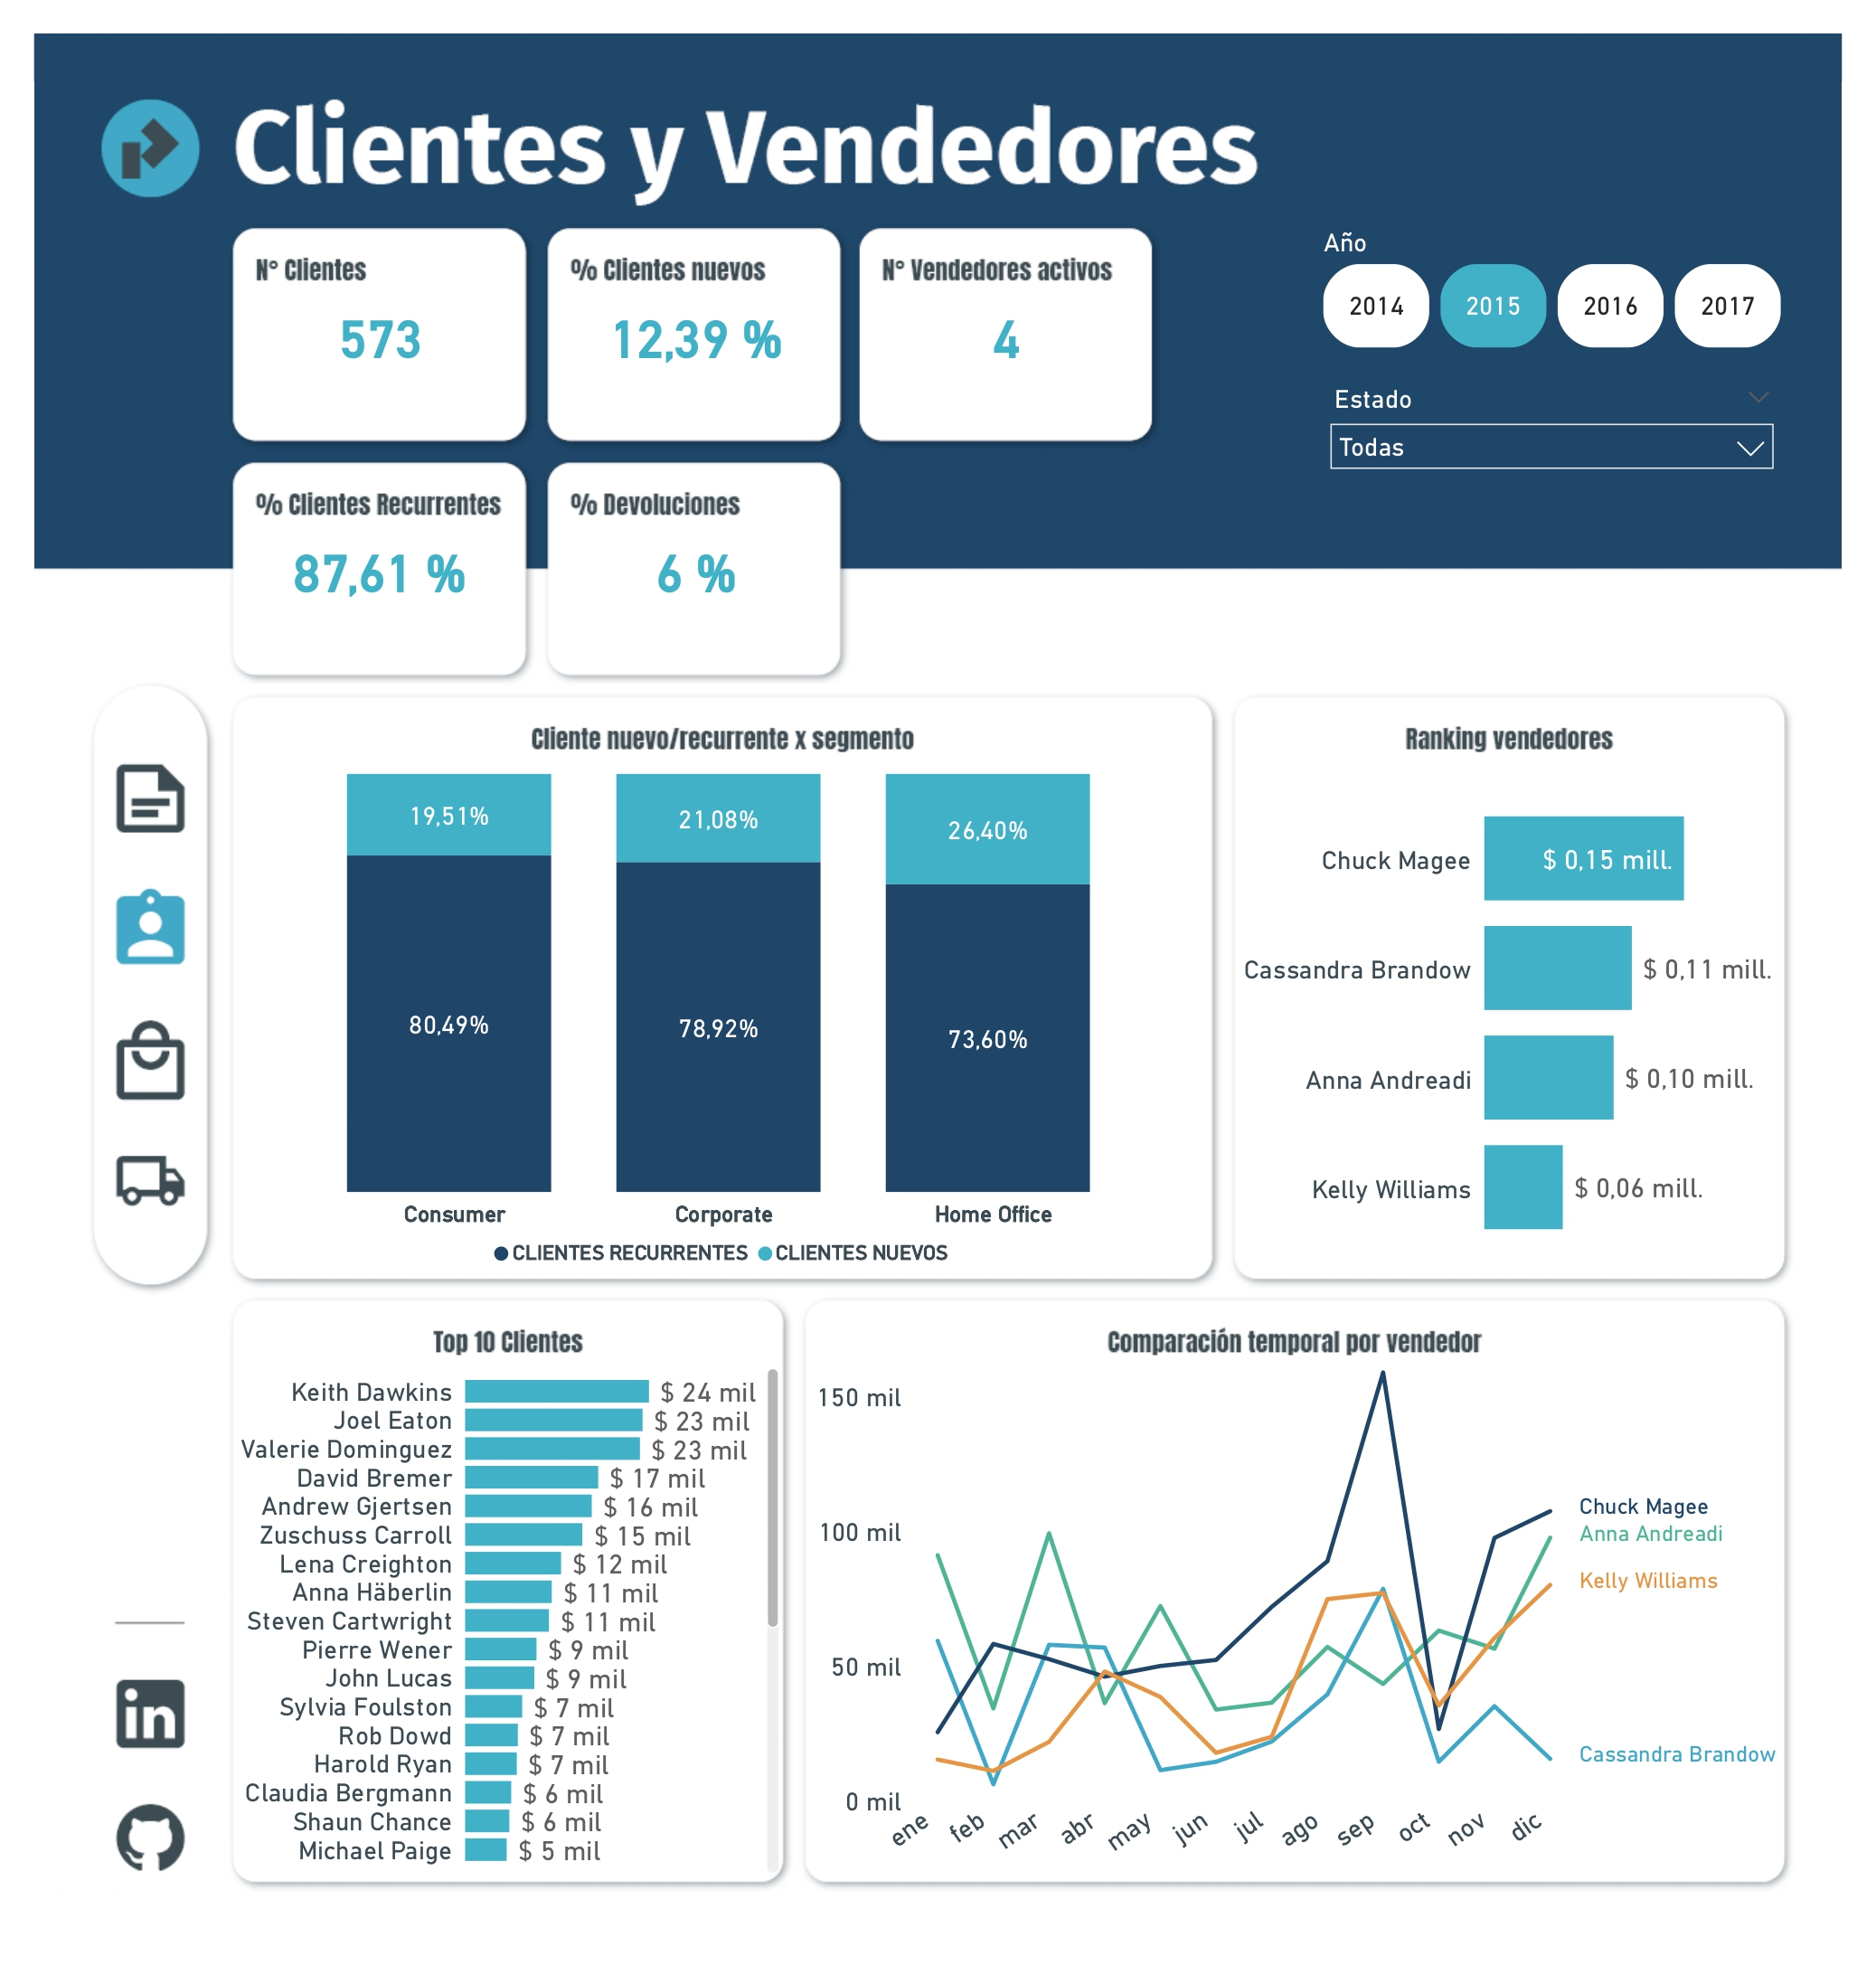

Layout of this report page (visuals, bound fields, positions):
{"tool":"powerbi","page":{"name":"Clientes","canvas":[1280,1350],"ordinal":2},"visuals":[{"type":"actionButton","box":[53.3,510,58.9,62.2],"z":0},{"type":"actionButton","box":[53.3,604.4,58.9,62.2],"z":1000},{"type":"actionButton","box":[53.3,695.6,58.9,62.2],"z":2000},{"type":"actionButton","box":[53.3,778.9,58.9,62.2],"z":3000},{"type":"card","fields":{"Values":["Medidas.CLIENTES UNICOS"]},"box":[140,137,209,152],"z":4000},{"type":"advancedSlicerVisual","fields":{"Values":["dimCalendario.Año"]},"box":[908.3,136.7,333.3,90],"z":5000},{"type":"card","fields":{"Values":["Medidas.CLIENTES NUEVOS %"]},"box":[364.3,137.1,208.6,151.4],"z":6000},{"type":"card","fields":{"Values":["Medidas.NUMERO VENDEDORES ACTIVOS"]},"box":[584.3,137.1,208.6,151.4],"z":7000},{"type":"card","fields":{"Values":["Medidas.CLIENTES RECURRENTES %"]},"box":[140,302.9,208.6,151.4],"z":8000},{"type":"card","fields":{"Values":["Medidas.DEVOLUCIONES %"]},"box":[364.3,302.9,208.6,151.4],"z":9000},{"type":"hundredPercentStackedColumnChart","fields":{"Y":["Medidas.CLIENTES RECURRENTES","Medidas.CLIENTES NUEVOS"],"Category":["dimCliente.Segment"]},"box":[140,510,697.1,374.3],"z":10000},{"type":"barChart","fields":{"Category":["dimVendedor.Name"],"Y":["Medidas.VENTAS"]},"box":[850,510,391.7,375],"z":11000},{"type":"barChart","fields":{"Category":["dimCliente.Name"],"Y":["Medidas.VENTAS"]},"box":[140,931.7,391.7,375],"z":12000},{"type":"lineChart","fields":{"Y":["Medidas.VENTAS"],"Category":["dimCalendario.Mes Nombre"],"Series":["dimVendedor.Name"]},"box":[548.3,931.7,693.3,375],"z":13000},{"type":"slicer","fields":{"Values":["dimRegion.State"]},"box":[908.3,243.3,333.3,90],"z":14000}]}

Visuals, with their boxes in screenshot pixels (x1, y1, x2, y2), scaled from the page's 1280x1350 canvas onto the 1876x1975 screenshot:
actionButton: 78/746/165/837
actionButton: 78/884/165/975
actionButton: 78/1017/165/1109
actionButton: 78/1139/165/1231
card - Medidas.CLIENTES UNICOS: 205/201/512/423
advancedSlicerVisual - dimCalendario.Año: 1331/200/1820/332
card - Medidas.CLIENTES NUEVOS %: 534/201/840/422
card - Medidas.NUMERO VENDEDORES ACTIVOS: 856/201/1162/422
card - Medidas.CLIENTES RECURRENTES %: 205/443/511/665
card - Medidas.DEVOLUCIONES %: 534/443/840/665
hundredPercentStackedColumnChart - Medidas.CLIENTES RECURRENTES x Medidas.CLIENTES NUEVOS: 205/746/1227/1294
barChart - dimVendedor.Name x Medidas.VENTAS: 1246/746/1820/1295
barChart - dimCliente.Name x Medidas.VENTAS: 205/1363/779/1912
lineChart - Medidas.VENTAS x dimCalendario.Mes Nombre: 804/1363/1820/1912
slicer - dimRegion.State: 1331/356/1820/487
